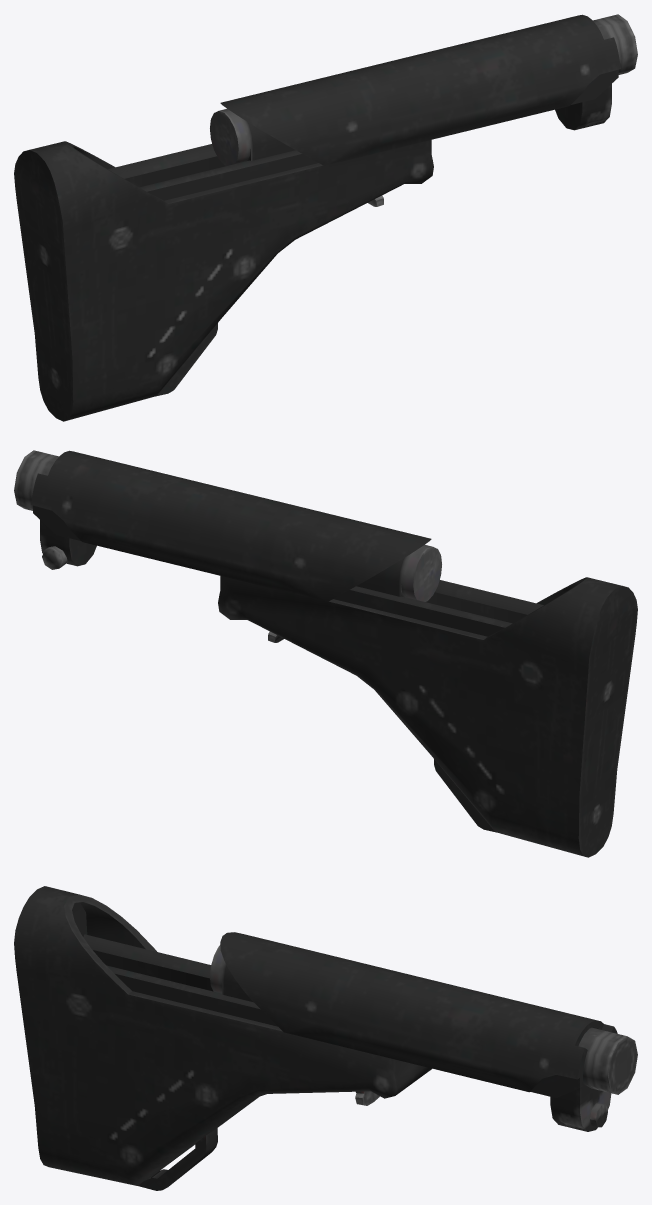
File: ST_Stock_ButtStock.FBX
3 views of the same model, one above another, from view 1: azimuth 30°, elevation 25°; view 2: azimuth 150°, elevation 25°; view 3: azimuth 330°, elevation 25° (orthographic).
Parts seen in each view (by area): view 1: ST_Stock_ButtStock; view 2: ST_Stock_ButtStock; view 3: ST_Stock_ButtStock.
Part boxes in pixels (x1,y1,x2,y2): ST_Stock_ButtStock: [14, 14, 637, 421]; ST_Stock_ButtStock: [14, 450, 637, 857]; ST_Stock_ButtStock: [14, 886, 637, 1190].
Size of the model in its own units: 29.59 by 13.03 by 4.17.
Materials: 1 (1 with a texture image).
